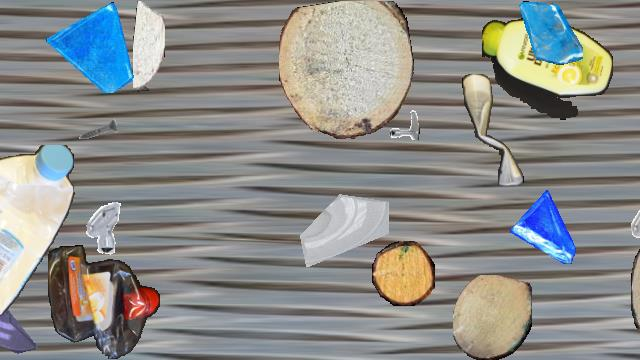glass: (296, 174, 388, 266), (46, 1, 138, 93), (510, 190, 584, 264), (519, 1, 583, 65), (0, 275, 37, 359)
metal: (72, 197, 130, 255), (378, 98, 420, 140), (77, 108, 119, 150), (617, 196, 640, 256)
plastic: (482, 18, 612, 120), (0, 145, 76, 317), (48, 245, 160, 359), (462, 74, 524, 186)
wood: (279, 1, 413, 139), (453, 275, 531, 359), (372, 241, 434, 305), (133, 1, 165, 91), (631, 215, 640, 359)
